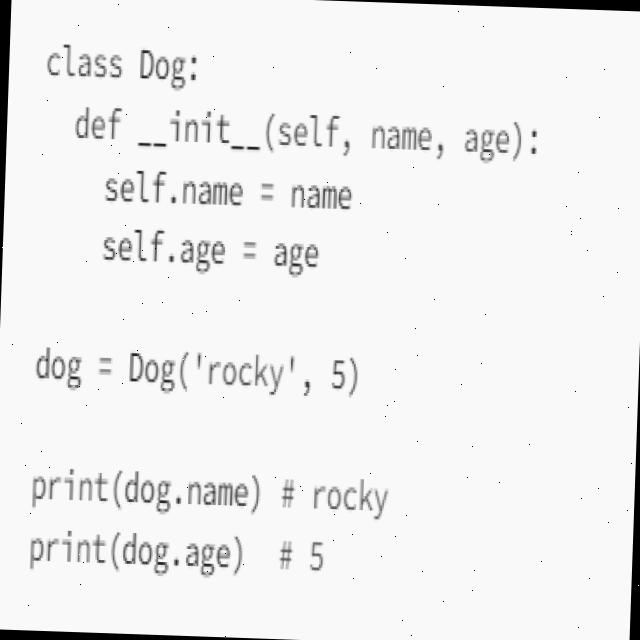word: (27, 520, 252, 588), (28, 469, 266, 529), (132, 99, 355, 162), (127, 347, 314, 409), (100, 158, 247, 219), (97, 227, 235, 279), (459, 111, 551, 170), (307, 475, 401, 532), (365, 108, 451, 169), (44, 37, 127, 88), (293, 168, 365, 216), (138, 41, 206, 91), (31, 336, 86, 394), (268, 230, 329, 282), (65, 99, 125, 146), (298, 528, 335, 585), (326, 350, 362, 408), (270, 527, 298, 584), (237, 228, 264, 279), (95, 342, 118, 390), (256, 171, 279, 213), (276, 476, 299, 518)
